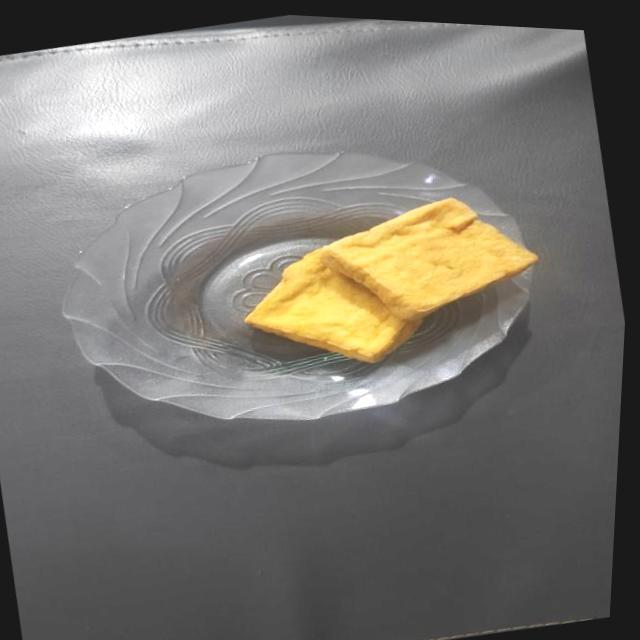tahu_goreng: (319, 198, 537, 321), (245, 248, 422, 362)
